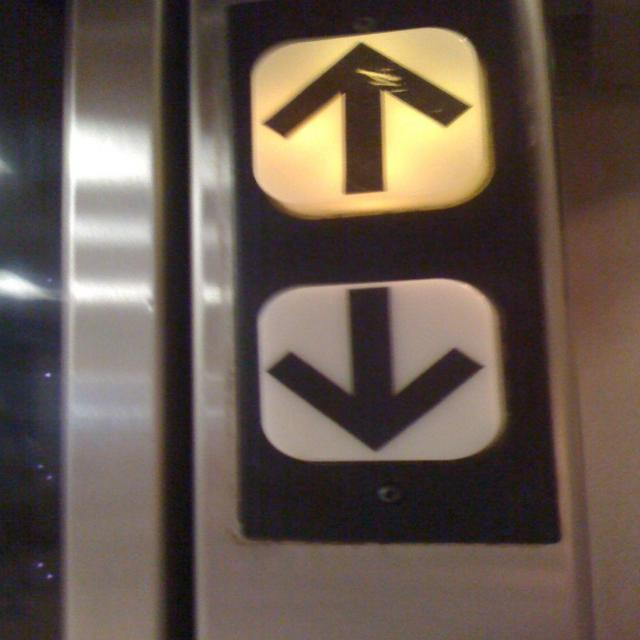down: (250, 277, 507, 462)
up: (242, 28, 496, 220)
